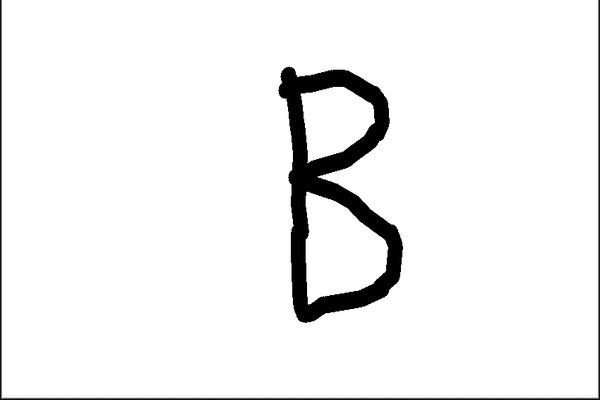B: (266, 55, 416, 331)
